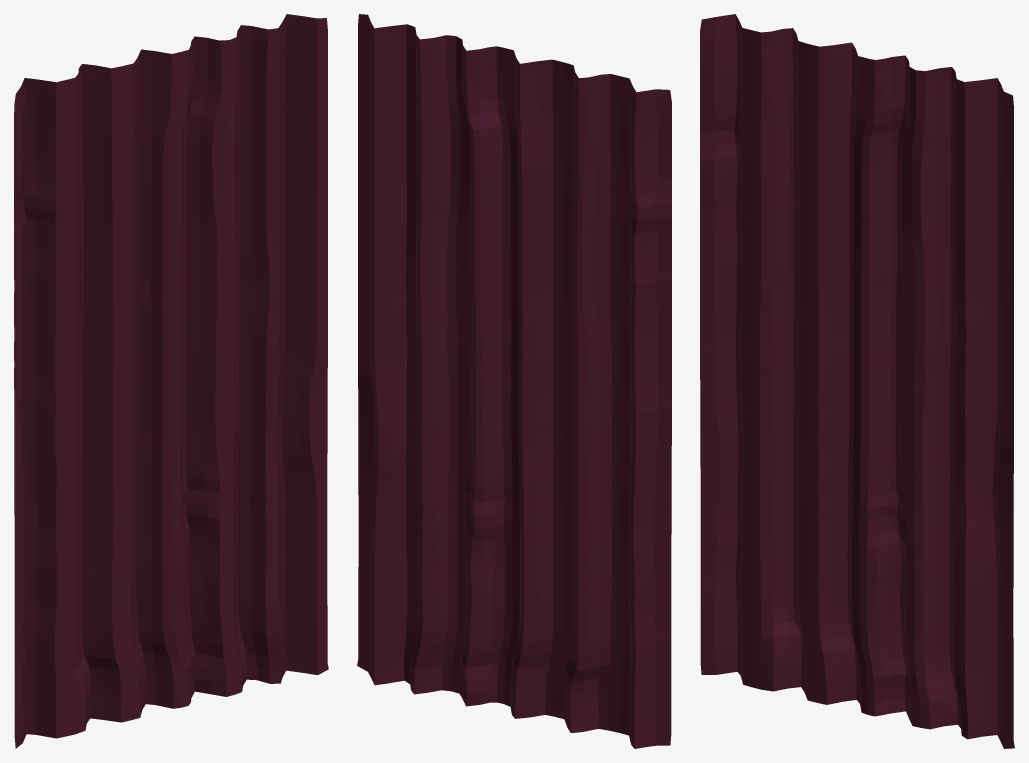
The model's file is Curtain_test_02.fbx.
3 views of the same model, side by side, from view 1: azimuth 30°, elevation 25°; view 2: azimuth 150°, elevation 25°; view 3: azimuth 330°, elevation 25° (orthographic).
Visible parts, largest first — view 1: Low_Poly; view 2: Low_Poly; view 3: Low_Poly.
Boxes of the visible parts, box(x1,y1,x2,y2) form: Low_Poly: box(14, 14, 328, 748); Low_Poly: box(357, 14, 671, 748); Low_Poly: box(700, 14, 1014, 748).
Size of the model in its own units: 1605 by 3200 by 110.
